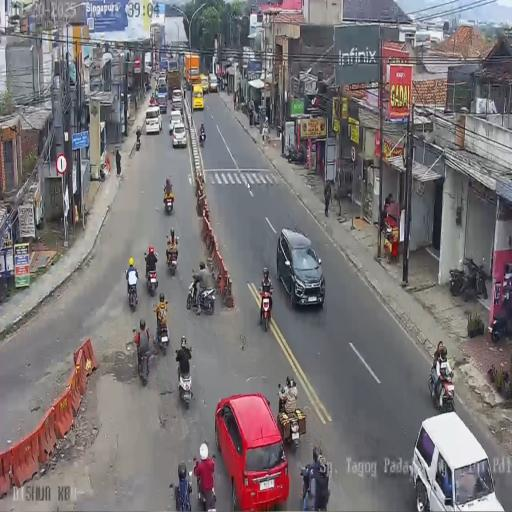3: (184, 53, 201, 89), (159, 58, 169, 74), (169, 58, 178, 72)
car: (410, 410, 507, 509), (214, 394, 286, 510), (279, 228, 326, 310), (144, 104, 162, 135), (168, 109, 182, 136), (156, 87, 168, 113), (172, 88, 182, 109), (200, 73, 209, 94), (209, 74, 218, 92), (157, 75, 167, 90)
truck: (450, 258, 488, 301), (428, 353, 454, 410), (194, 455, 216, 511), (188, 276, 216, 317), (133, 330, 153, 386), (176, 352, 194, 405), (490, 307, 512, 343), (155, 306, 170, 353), (258, 285, 273, 331), (144, 257, 158, 297), (165, 238, 179, 276), (126, 270, 138, 308), (286, 142, 304, 164), (163, 189, 174, 214), (198, 127, 206, 147), (240, 99, 248, 115), (136, 130, 141, 151), (276, 122, 282, 138)
